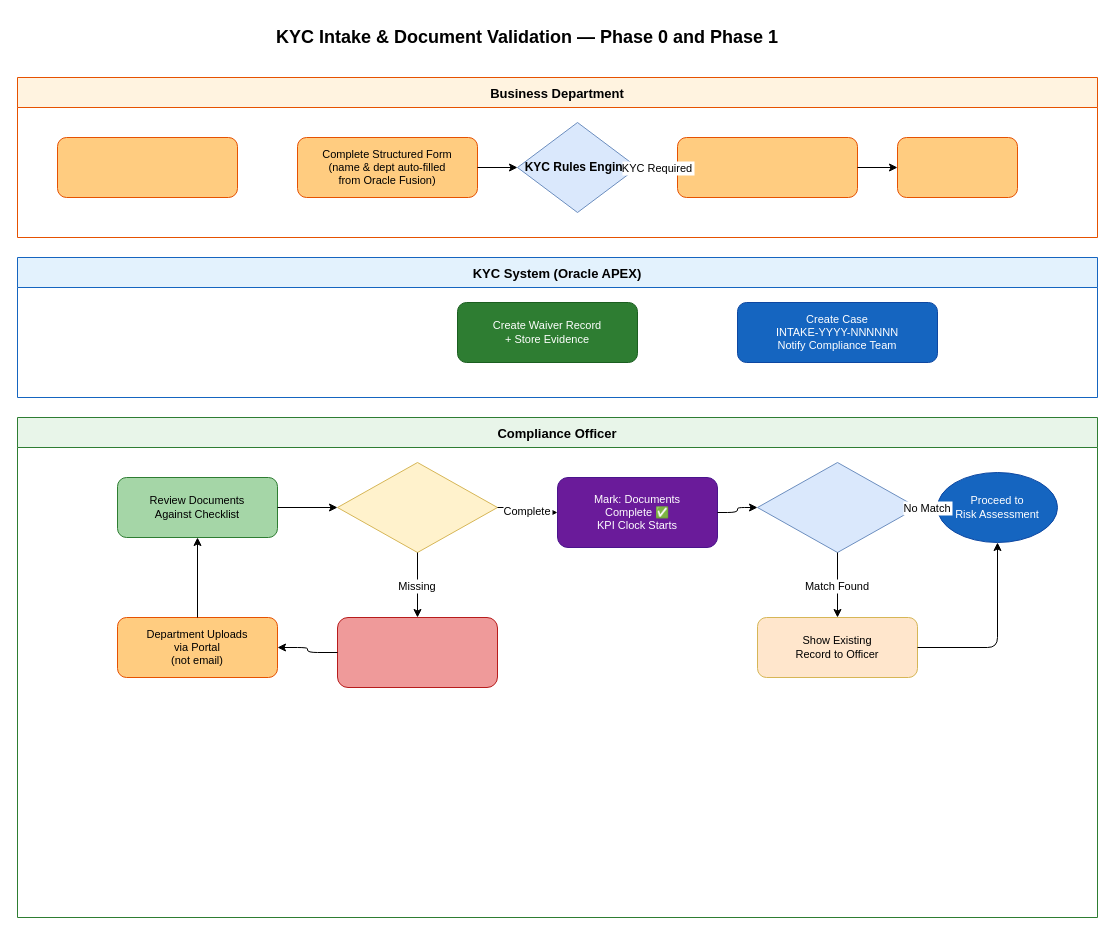
This 1115x935 diagram has some shape labels left out. Here are the shapes that lost their labels. From the top down, the centre of each, then its label:
At (147,167): "Open KYC Request Portal".
At (767,167): "Upload Documents (checklist shown by entity type + country)".
At (957,167): "Submit".
At (417,507): "Documents Complete?".
At (837,507): "Duplicate Check Jaro-Winkler Fuzzy Match".
At (417,652): "Send Structured Document Request Set Deadline".
